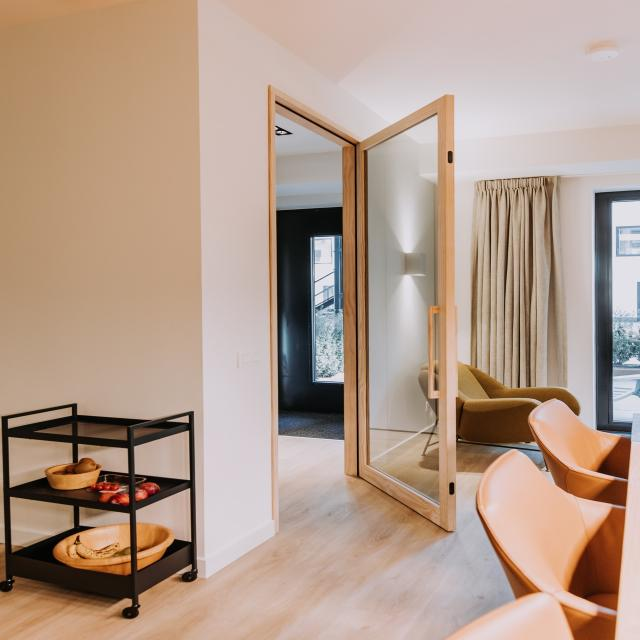door: (268, 86, 455, 534)
